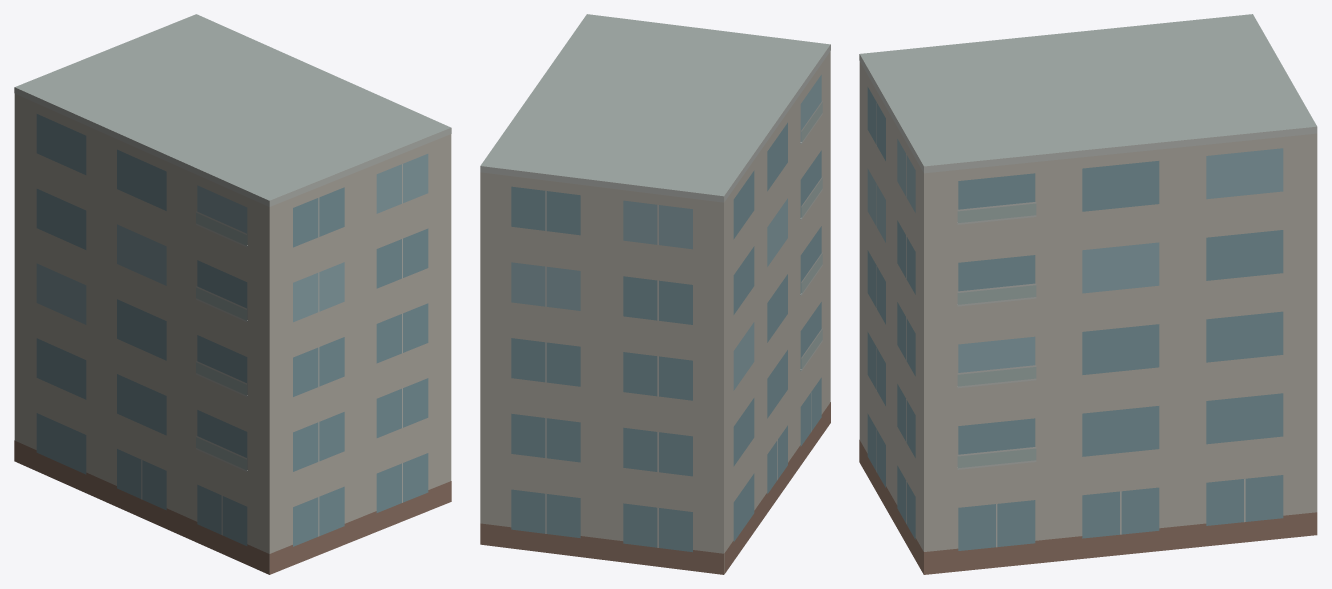
Rendered from survey-upis-32639297.glb.
3 renders of one model, left to right at view 1: azimuth 30°, elevation 25°; view 2: azimuth 150°, elevation 25°; view 3: azimuth 270°, elevation 25°, orthographic. The views are drawn at different scales.
Parts seen in each view (by area): view 1: survey-upis-32639297.tmp; view 2: survey-upis-32639297.tmp; view 3: survey-upis-32639297.tmp.
Boxes of the visible parts, <box> form: survey-upis-32639297.tmp: <box>14,14,451,574</box>; survey-upis-32639297.tmp: <box>480,14,830,574</box>; survey-upis-32639297.tmp: <box>859,14,1317,574</box>.
Bounding box in the file's own units: 11.58 × 14.45 × 14.69.
